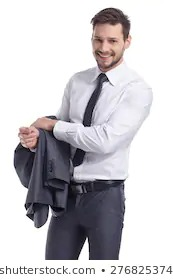F_belt: (67, 178, 125, 192)
F_dress pants: (48, 178, 125, 260)
F_shirt: (56, 62, 157, 190)
F_tie: (69, 71, 108, 167)
